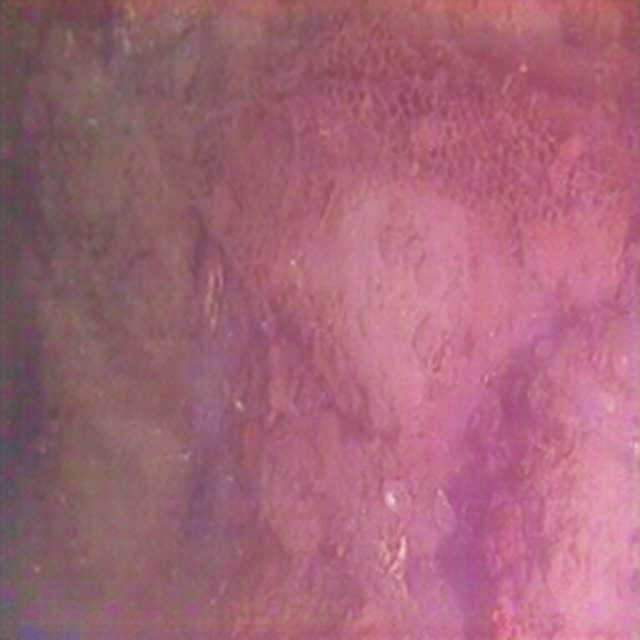mine: (192, 23, 640, 280)
